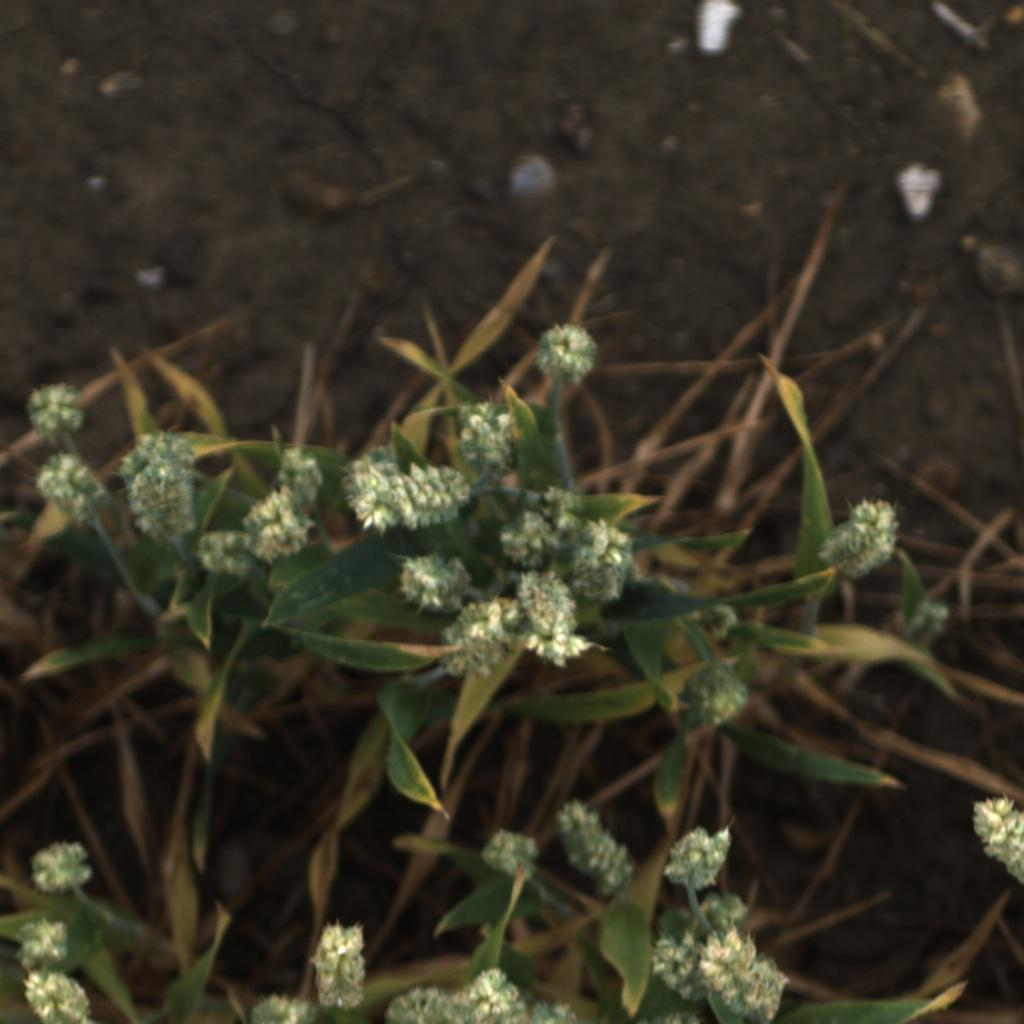0-0: (552, 795, 647, 892), (517, 566, 602, 672), (702, 931, 795, 1022), (819, 496, 909, 586), (440, 594, 527, 681), (127, 452, 201, 551), (338, 442, 410, 536), (448, 396, 522, 485), (305, 915, 367, 1015), (386, 460, 477, 528), (963, 796, 1024, 895), (570, 519, 639, 605), (35, 451, 112, 526), (529, 316, 606, 390), (659, 821, 734, 895), (242, 489, 314, 566), (681, 661, 753, 732), (399, 550, 476, 616), (453, 960, 526, 1024), (24, 839, 103, 897), (21, 375, 86, 441), (114, 430, 198, 481), (22, 970, 98, 1024), (266, 443, 331, 506), (521, 484, 584, 549), (9, 914, 80, 970), (645, 935, 705, 1001), (476, 827, 543, 884), (190, 526, 258, 581), (381, 986, 462, 1024), (698, 890, 752, 941), (497, 514, 546, 569), (906, 595, 952, 651), (241, 993, 321, 1024), (697, 598, 740, 642), (527, 999, 579, 1024), (637, 1009, 706, 1024)
